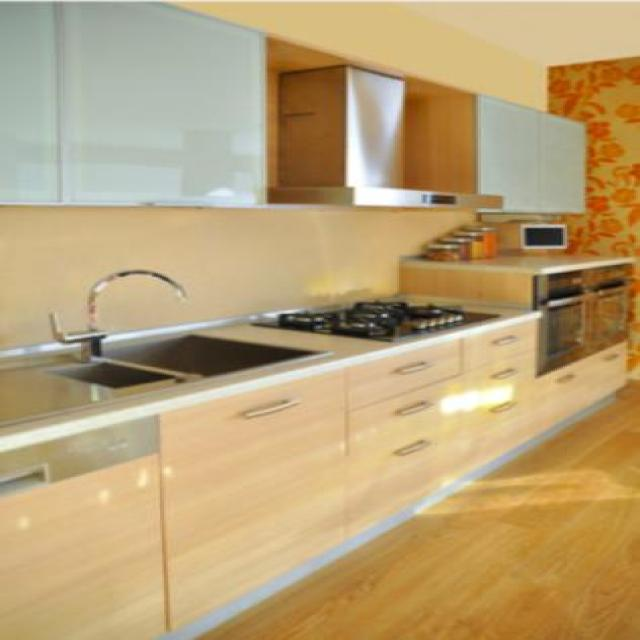dishwasher: (0, 411, 164, 638)
